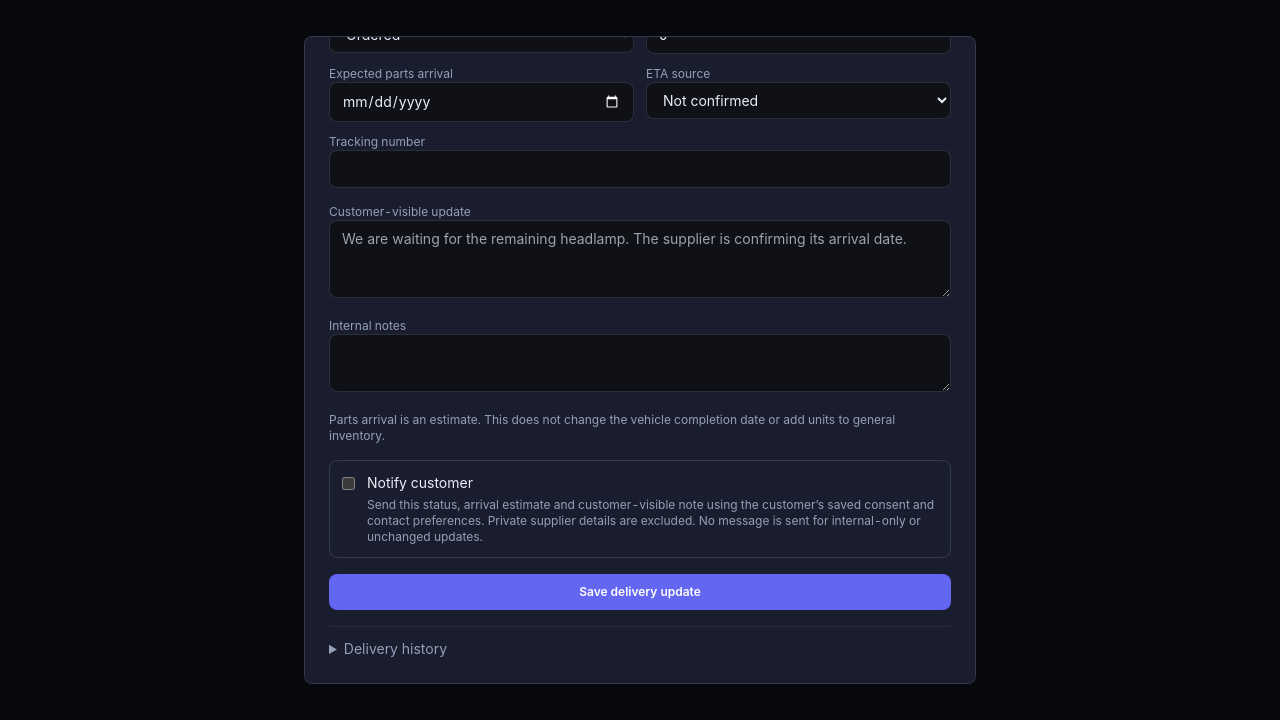
Test case: keeps verify_before_retry informational after a successful save
(page scrolled)
Click the checkbox.
click(348, 484)  # box [342, 477, 355, 490]
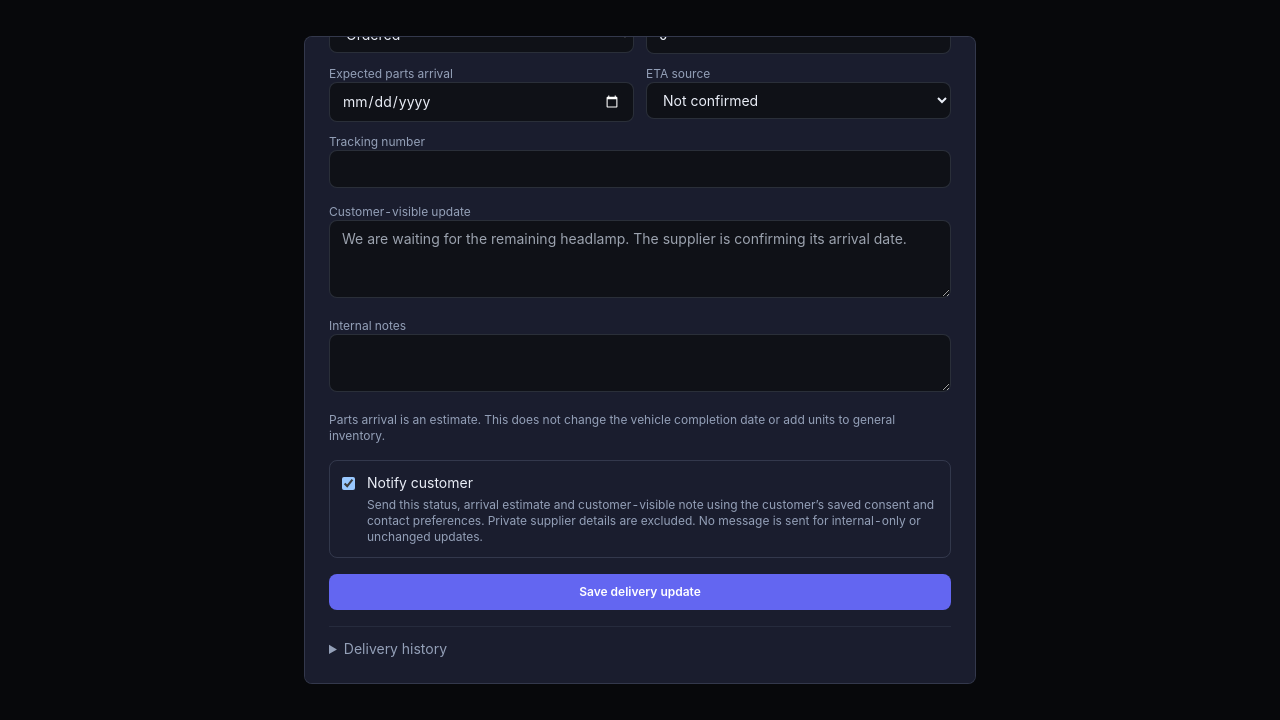
Click the button "Save delivery update".
click(640, 592)  # box [329, 574, 951, 610]
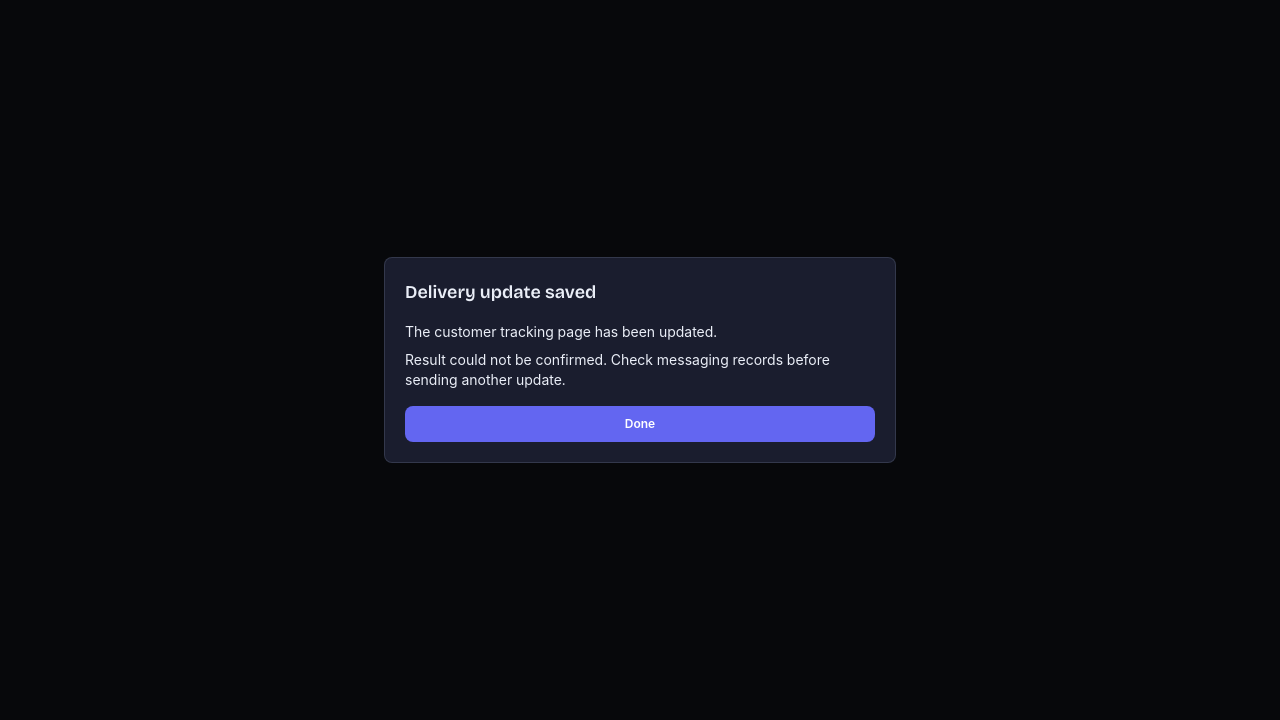
Check: the message does not show "Notification result is unavailable.", box [405, 322, 875, 390]
Check: the heading "Delivery update saved" is shown, box [405, 281, 596, 303]
